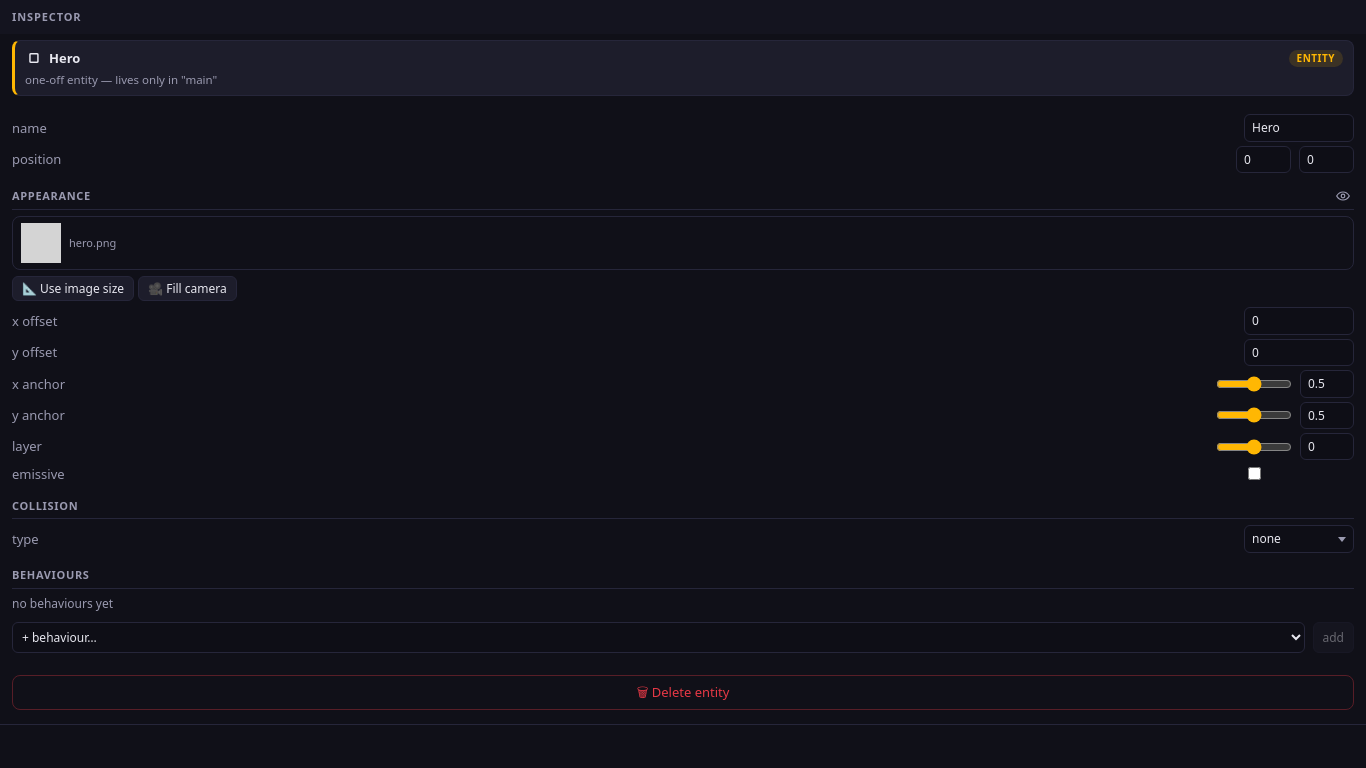
Test: Appearance image chip (CA-25) › is a button that opens the art picker on click
Step 1. Click the button "hero.png" → {"x": 41, "y": 243}, box [12,216,1354,270]
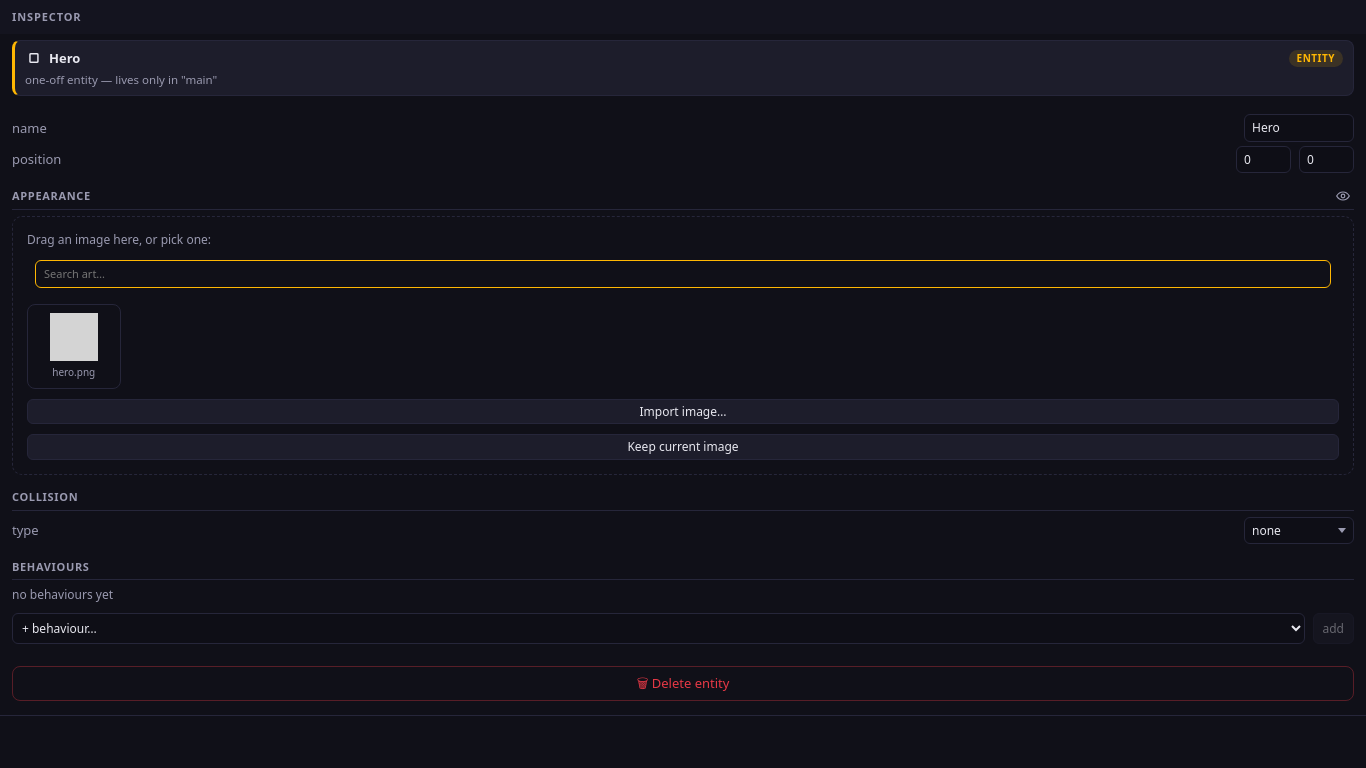
expect the button "Keep current image" is shown: met, box [27,434,1339,460]
